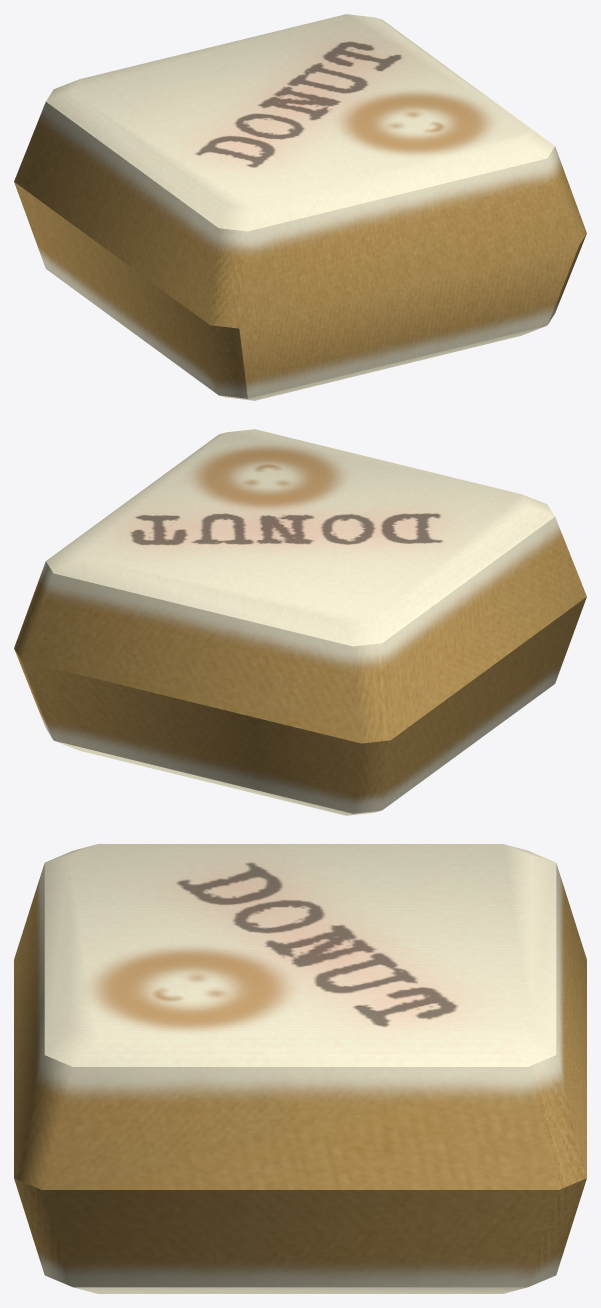
File: DonutBox.fbx
3 views of the same model, one above another, from view 1: azimuth 30°, elevation 25°; view 2: azimuth 150°, elevation 25°; view 3: azimuth 270°, elevation 25° (orthographic). The views are drawn at different scales.
Parts seen in each view (by area): view 1: DonutBox; view 2: DonutBox; view 3: DonutBox.
Part boxes in pixels (<box>): DonutBox: <box>14,14,586,400</box>; DonutBox: <box>14,429,586,815</box>; DonutBox: <box>14,844,586,1293</box>.
Bounding box in the file's own units: 14.28 × 7 × 14.28.
